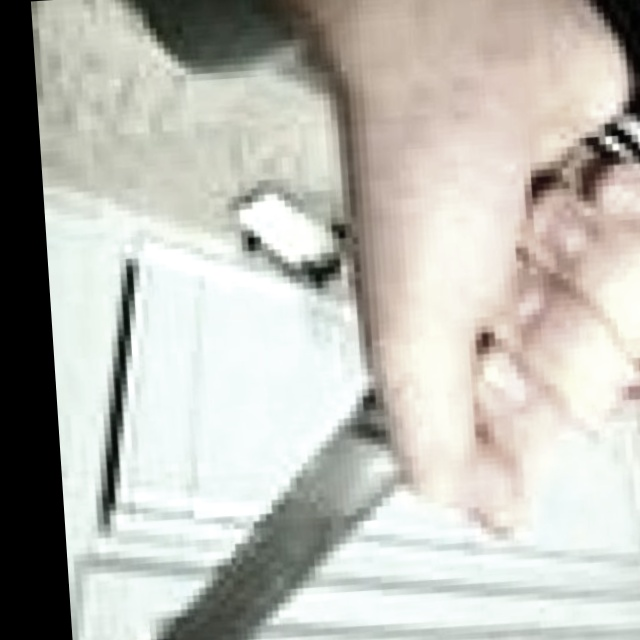Sharp-Object: (86, 57, 640, 640)
